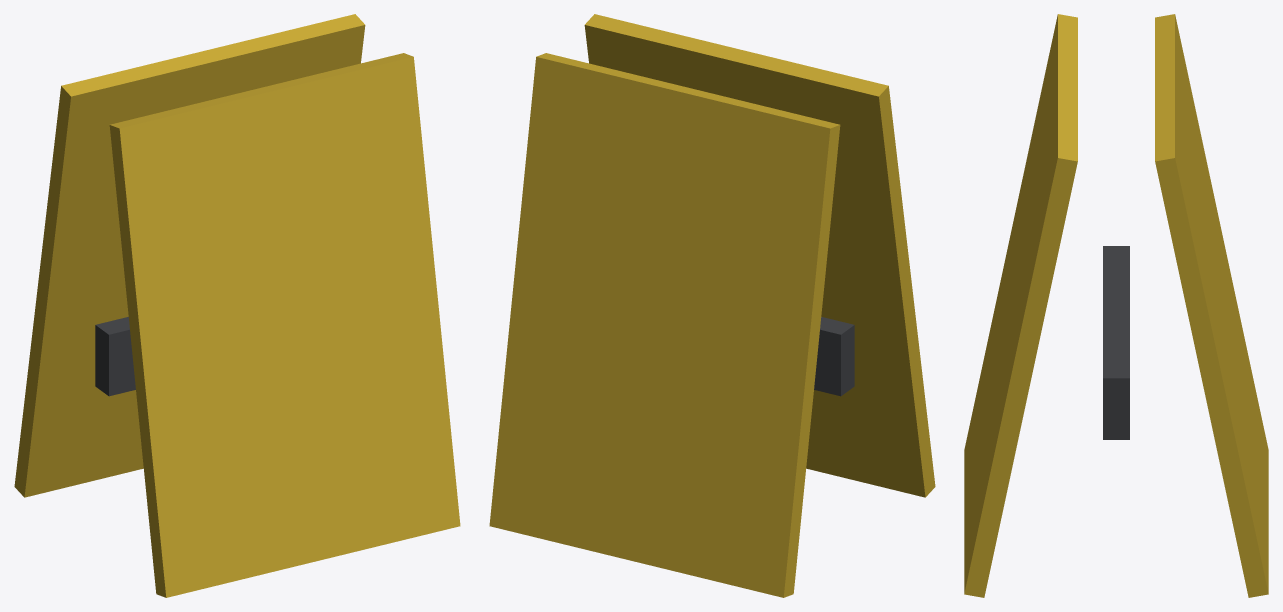
File: warning_sign.glb
3 renders of one model, left to right at view 1: azimuth 30°, elevation 25°; view 2: azimuth 150°, elevation 25°; view 3: azimuth 270°, elevation 25°, orthographic.
Visible parts, largest first — view 1: warning_sign; view 2: warning_sign; view 3: warning_sign.
Boxes of the visible parts, x1,y1,x2,y2 form: warning_sign: [14, 14, 460, 597]; warning_sign: [489, 14, 935, 597]; warning_sign: [964, 14, 1268, 597].
Bounding box in the file's own units: 0.5 × 0.7125 × 0.4468.
